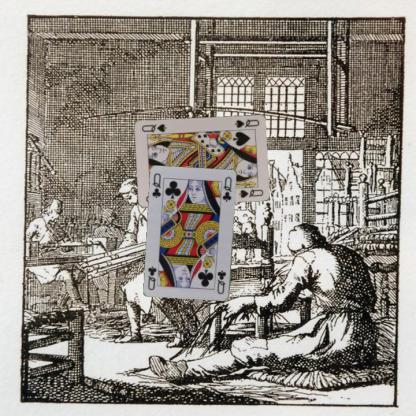Qc: (215, 268, 228, 295), (150, 170, 162, 199)
Qs: (232, 116, 261, 129)
